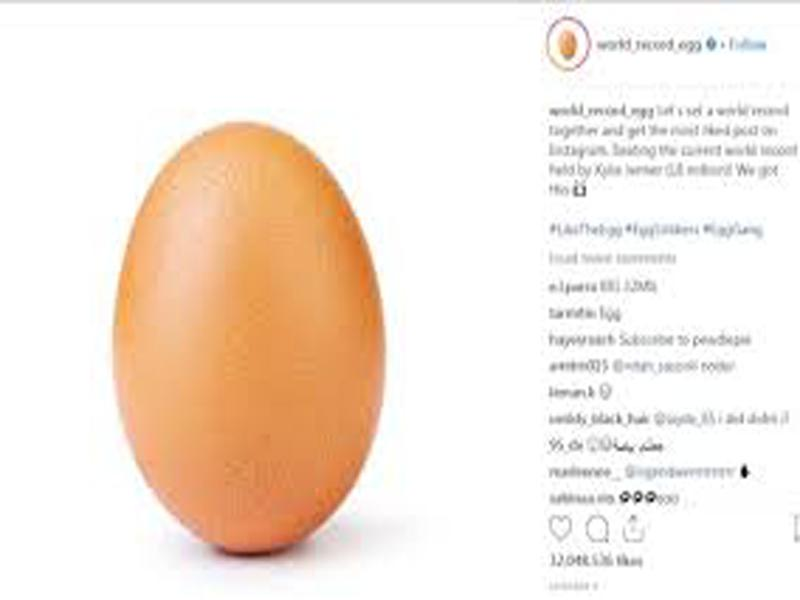Eggs: (110, 122, 383, 549)
